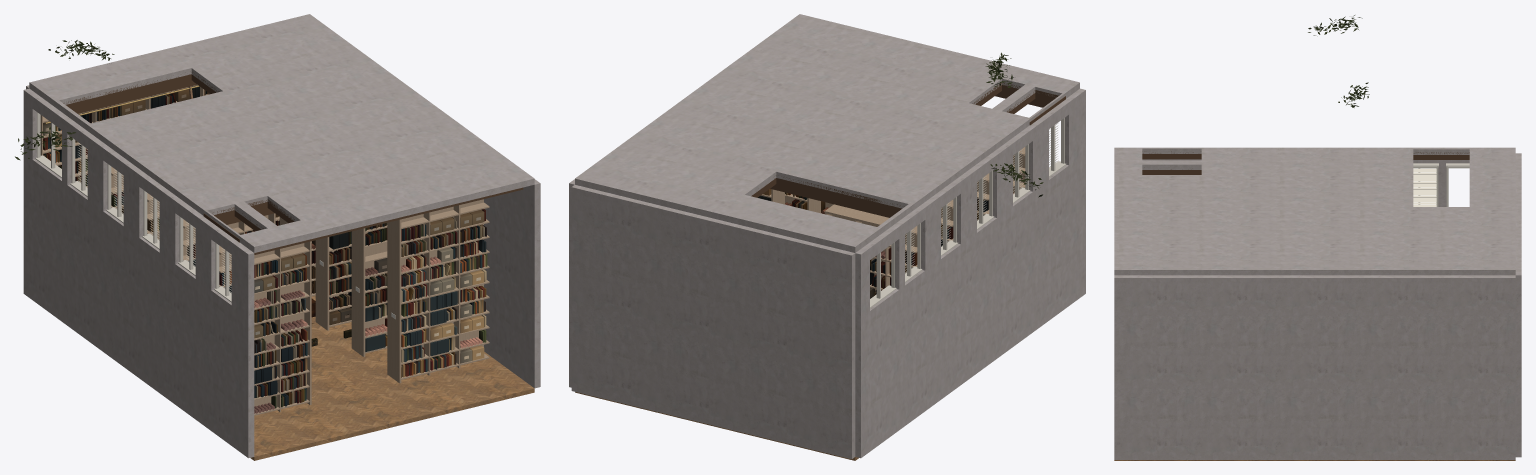
File: archive.glb
3 renders of one model, left to right at view 1: azimuth 30°, elevation 25°; view 2: azimuth 150°, elevation 25°; view 3: azimuth 270°, elevation 25°, orthographic. The views are drawn at different scales.
Visible parts, largest first — view 1: Archive_shell, Archive_books, Archive_decor; view 2: Archive_shell, Archive_books, Archive_decor; view 3: Archive_shell, Archive_decor.
Part boxes in pixels (x1,y1,x2,y2): Archive_shell: (23,14,540,460); Archive_books: (43,85,487,413); Archive_decor: (15,40,351,346); Archive_shell: (569,14,1085,460); Archive_books: (758,189,1014,298); Archive_decor: (985,52,1043,197); Archive_shell: (1114,147,1521,460); Archive_decor: (1308,15,1369,107).
Size of the model in its own units: 9.96 by 8.31 by 10.15.
46 materials, 17 textured.
